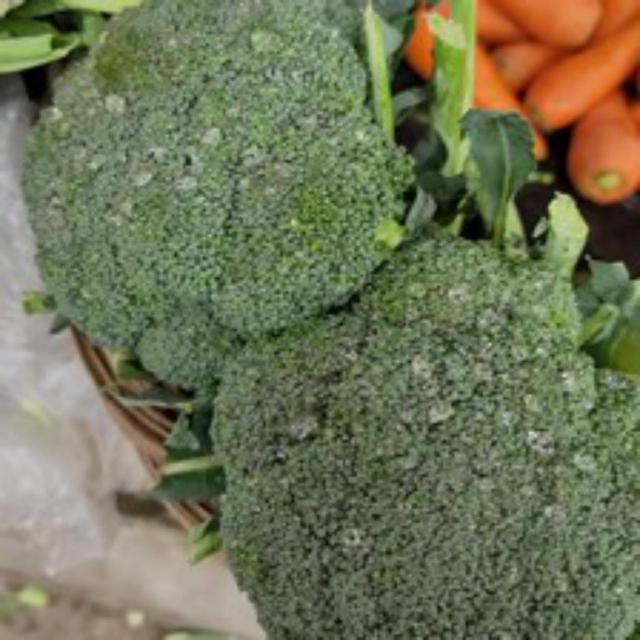broccoli: (208, 243, 637, 637)
